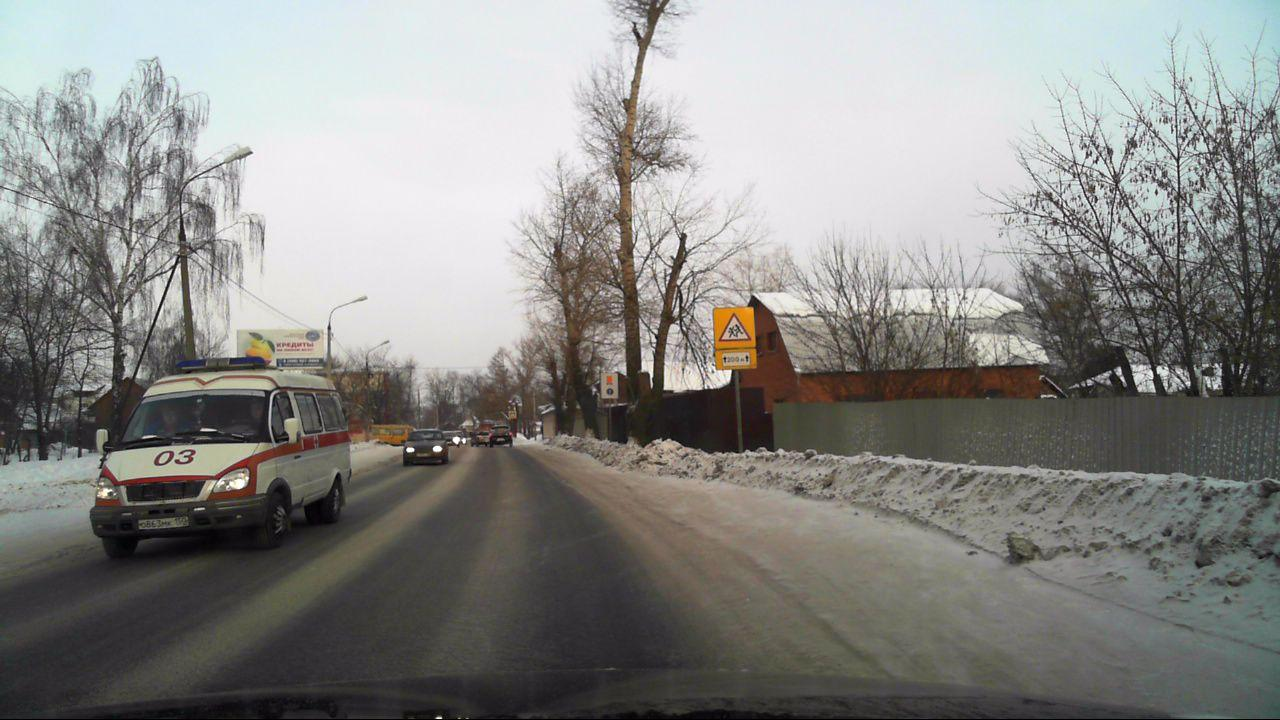1_23: (717, 312, 752, 343)
4_8_1: (600, 372, 618, 399)
5_19_1: (510, 412, 515, 417)
8_2_1: (720, 351, 752, 367)
